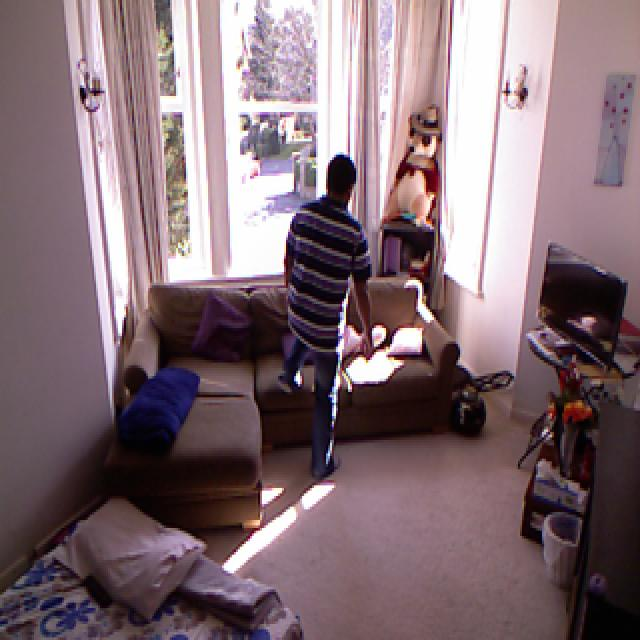standing: (282, 155, 372, 471)
